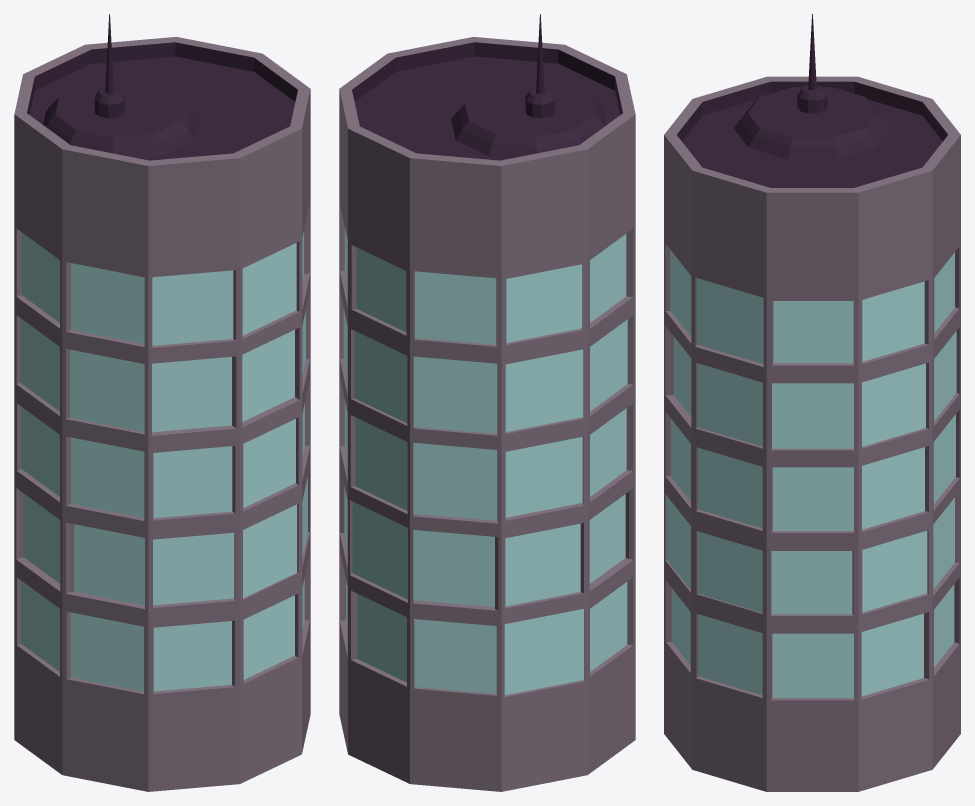
Rendered from bina_003.fbx.
3 renders of one model, left to right at view 1: azimuth 30°, elevation 25°; view 2: azimuth 150°, elevation 25°; view 3: azimuth 270°, elevation 25°, orthographic. The views are drawn at different scales.
Parts seen in each view (by area): view 1: Cylinder; view 2: Cylinder; view 3: Cylinder.
Part boxes in pixels (x1=…): Cylinder: x1=14, y1=14, x2=310, y2=791; Cylinder: x1=339, y1=14, x2=635, y2=791; Cylinder: x1=664, y1=14, x2=960, y2=791.
Size of the model in its own units: 246 by 687 by 266.
